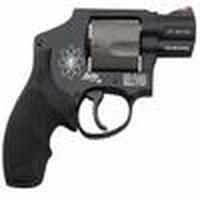gun: (1, 4, 195, 200)
